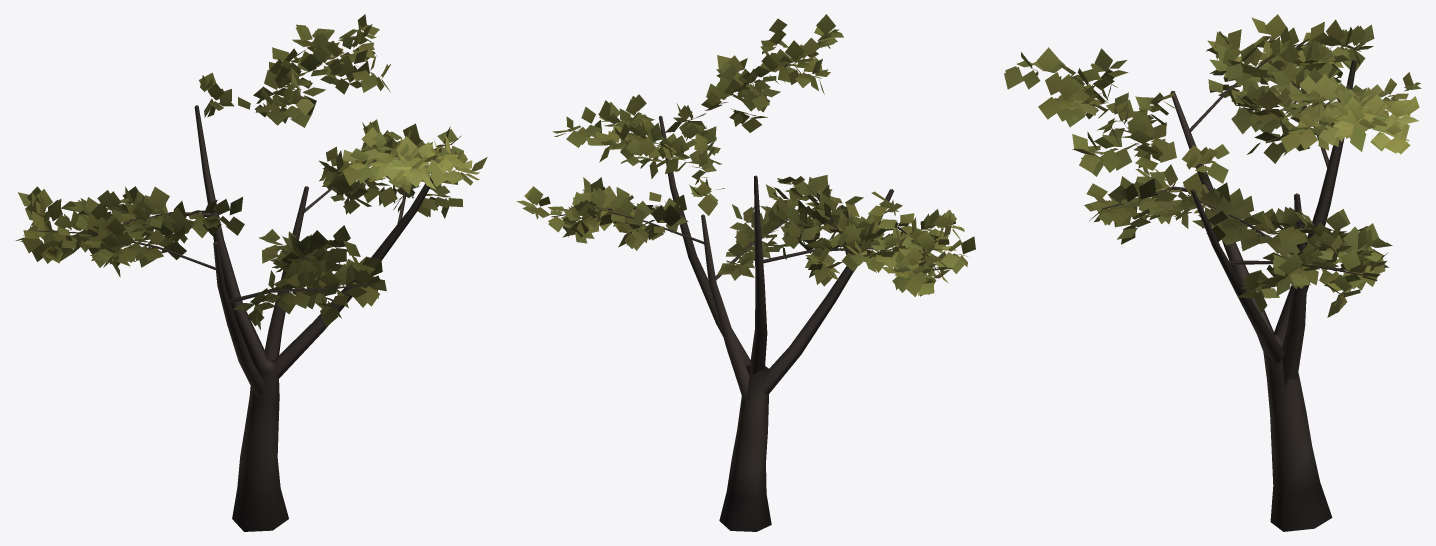
The model's file is acacia-c.lod1.glb.
3 renders of one model, left to right at view 1: azimuth 30°, elevation 25°; view 2: azimuth 150°, elevation 25°; view 3: azimuth 270°, elevation 25°, orthographic. The views are drawn at different scales.
Bounding box in the file's own units: 5.3 × 4.99 × 3.85.
